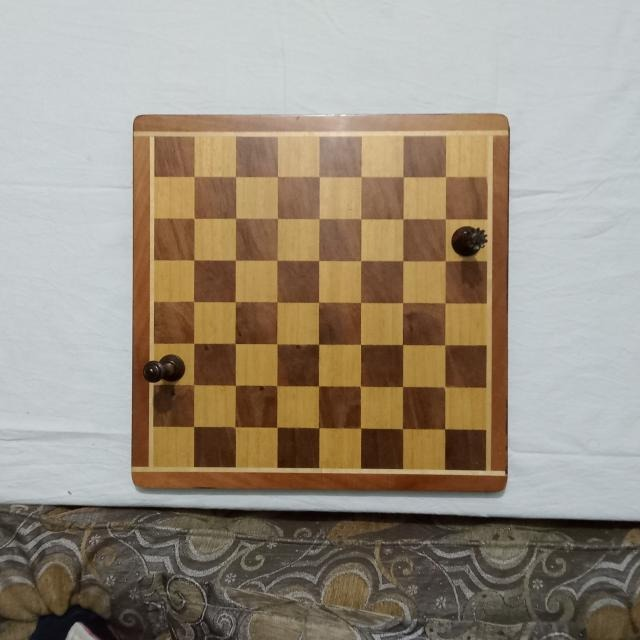black-king: (143, 352, 187, 384)
black-queen: (451, 222, 489, 257)
